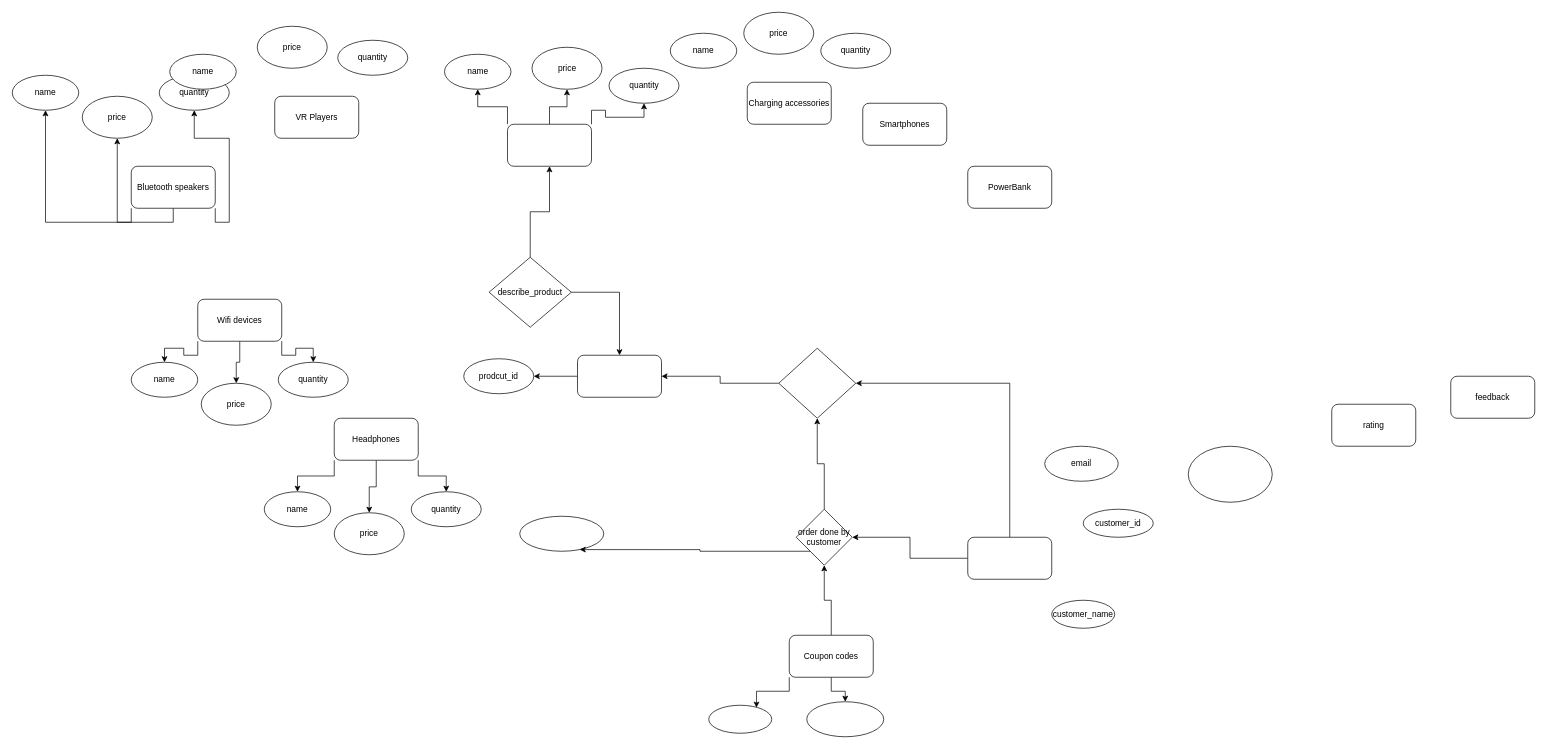
Image size: 1547x749. Some labels were removed from this diagram. Each missing label, with the centre of its shape:
"Bands" belongs at pixel 549 145.
"browse" belongs at pixel 817 383.
"coupon_code" belongs at pixel 740 719.
"coupon_expiry_date" belongs at pixel 845 719.
"Customers" belongs at pixel 1009 558.
"order_timestamp" belongs at pixel 561 533.
"phone no." belongs at pixel 1230 474.
"Products" belongs at pixel 619 376.
